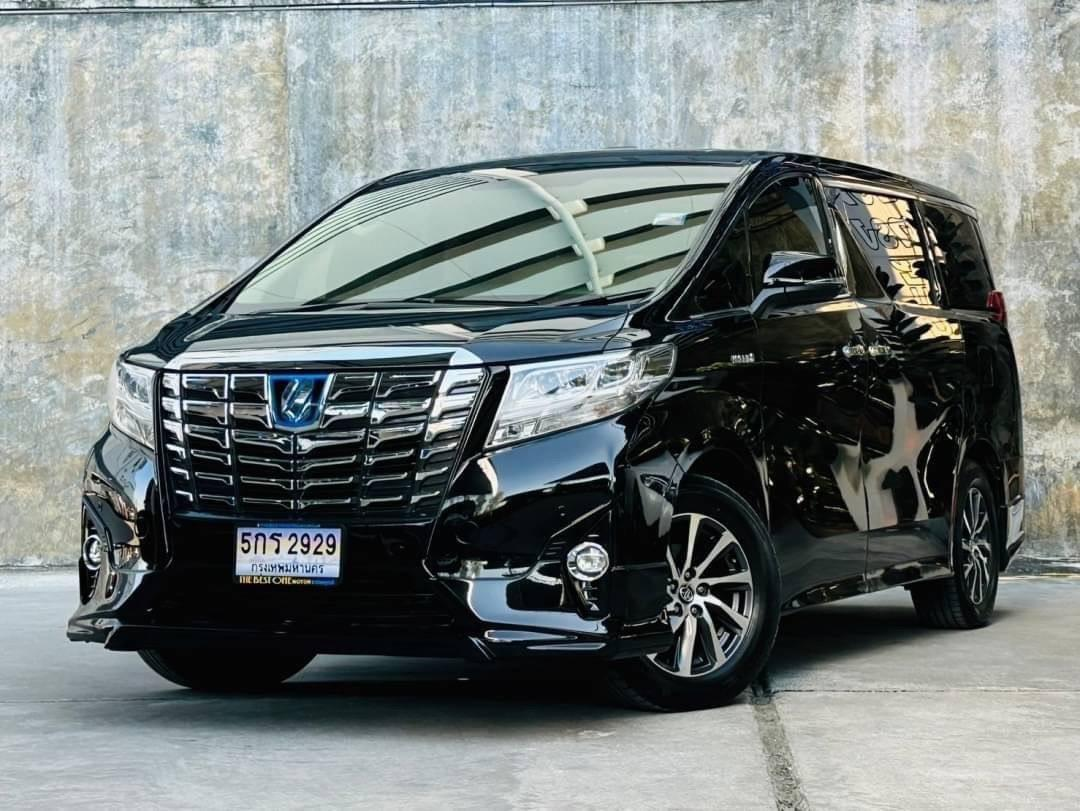license-plate: (233, 521, 345, 592)
